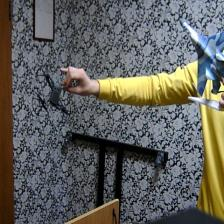drone: (31, 58, 74, 123)
